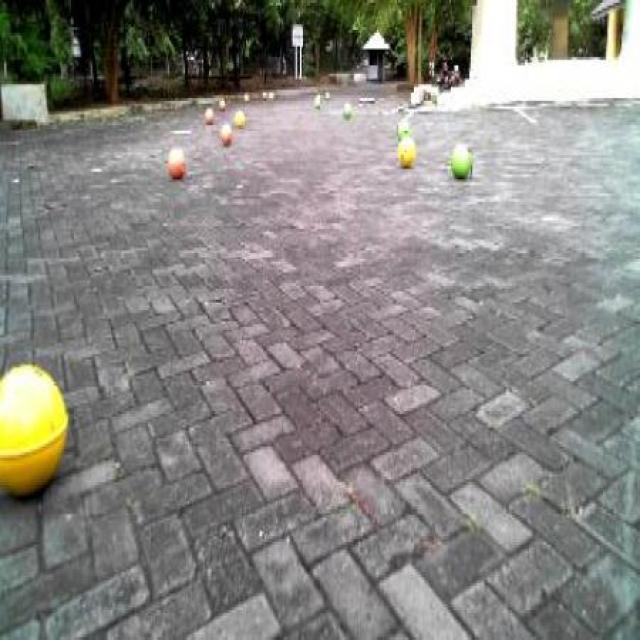buoy: (0, 353, 74, 516), (446, 138, 474, 183), (392, 136, 420, 174), (166, 142, 188, 182), (396, 118, 413, 144), (218, 120, 234, 147)
